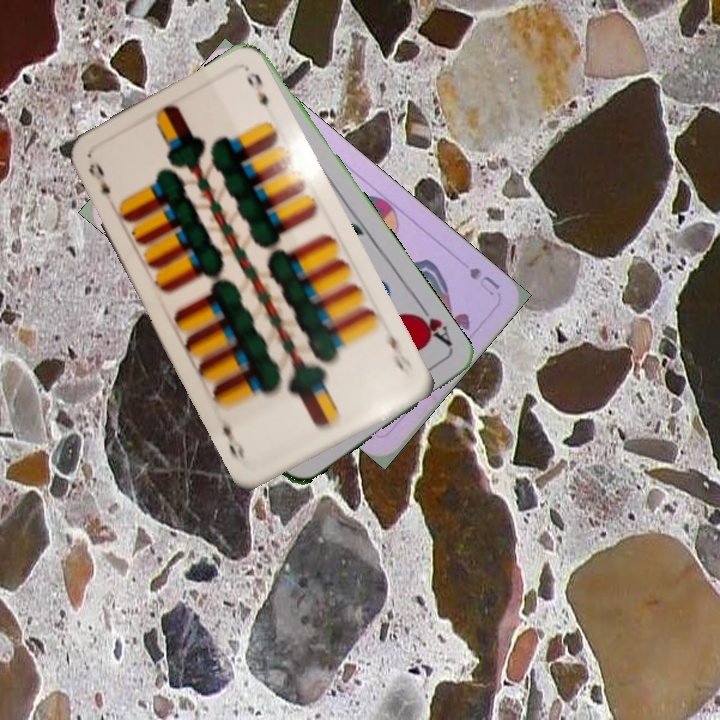E9: (384, 323, 416, 378), (84, 157, 114, 197)
HA: (407, 299, 455, 350)
SU: (465, 263, 502, 299)
